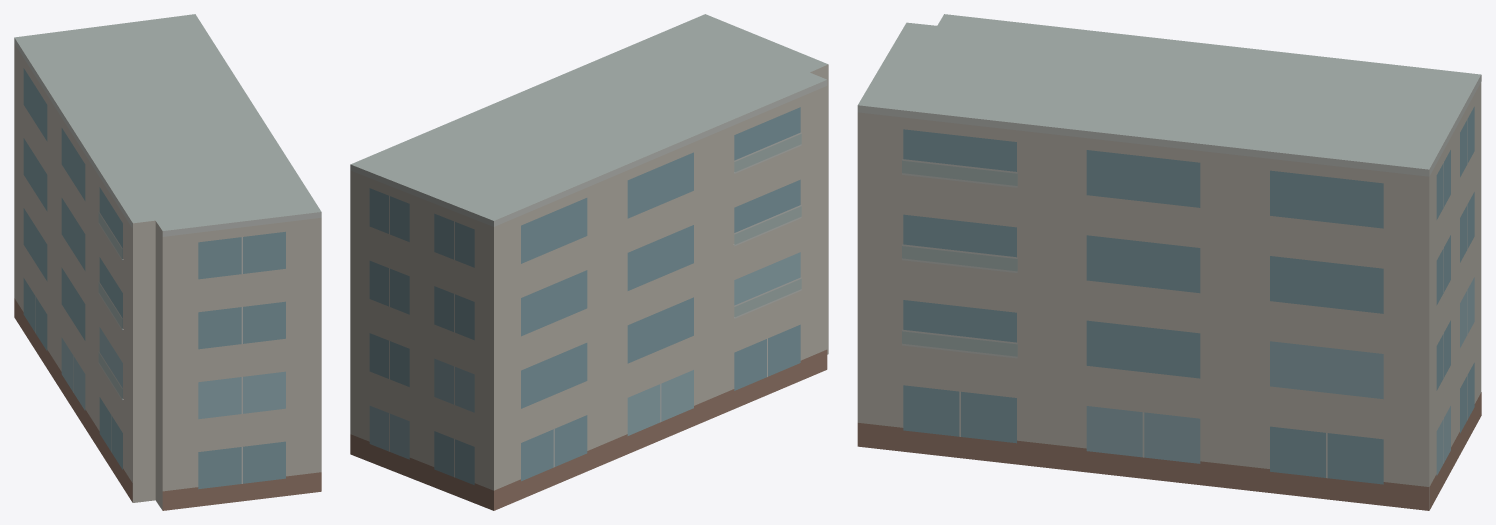
File: survey-upis-32748958.glb
3 renders of one model, left to right at view 1: azimuth 30°, elevation 25°; view 2: azimuth 150°, elevation 25°; view 3: azimuth 270°, elevation 25°, orthographic. The views are drawn at different scales.
Parts seen in each view (by area): view 1: survey-upis-32748958.tmp; view 2: survey-upis-32748958.tmp; view 3: survey-upis-32748958.tmp.
Part boxes in pixels (left/top/right/bottom): survey-upis-32748958.tmp: left=14, top=14, right=321, bottom=510; survey-upis-32748958.tmp: left=350, top=14, right=828, bottom=510; survey-upis-32748958.tmp: left=857, top=14, right=1481, bottom=510.
Size of the model in its own units: 11.5 by 11.75 by 19.47.
